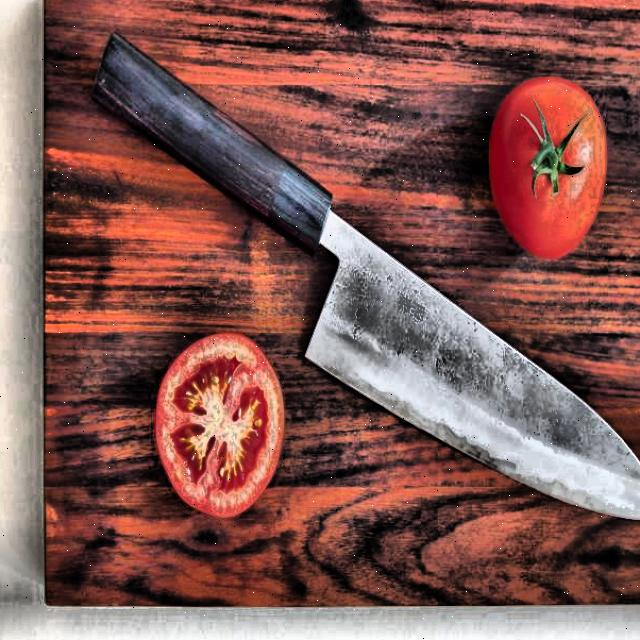knife: (82, 22, 640, 542)
